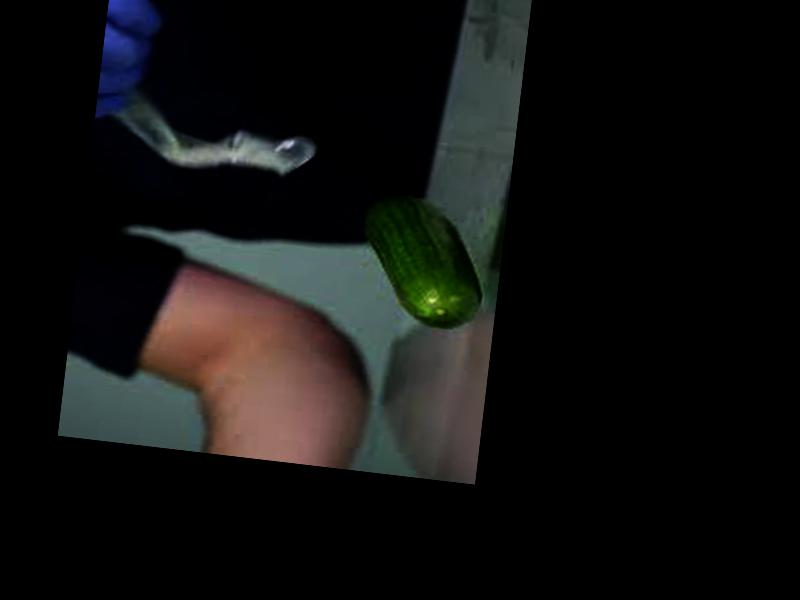Cucumber: (353, 192, 492, 333)
